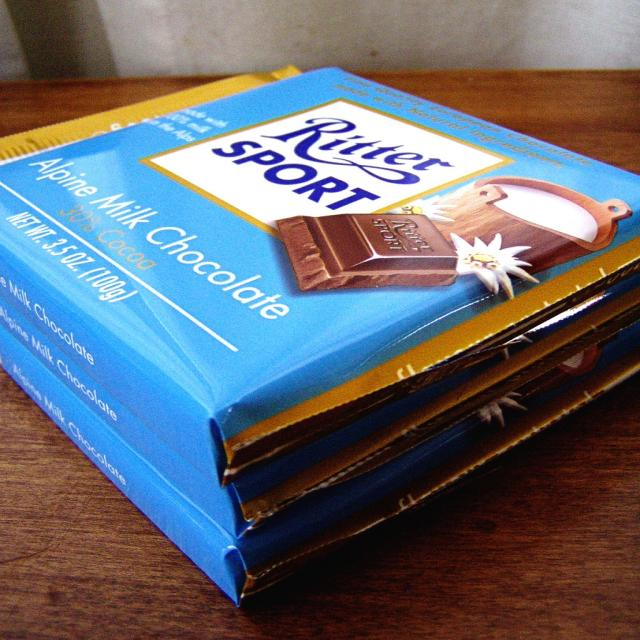rittersport: (150, 97, 509, 245)
